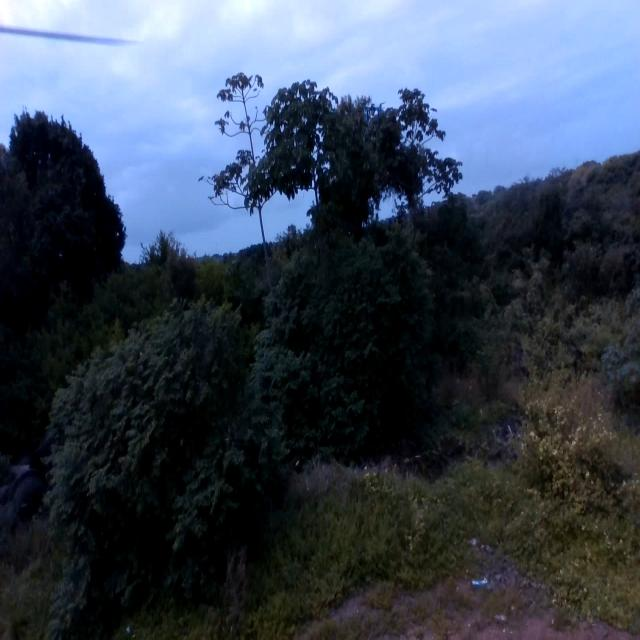-uav-: (358, 89, 389, 133)
